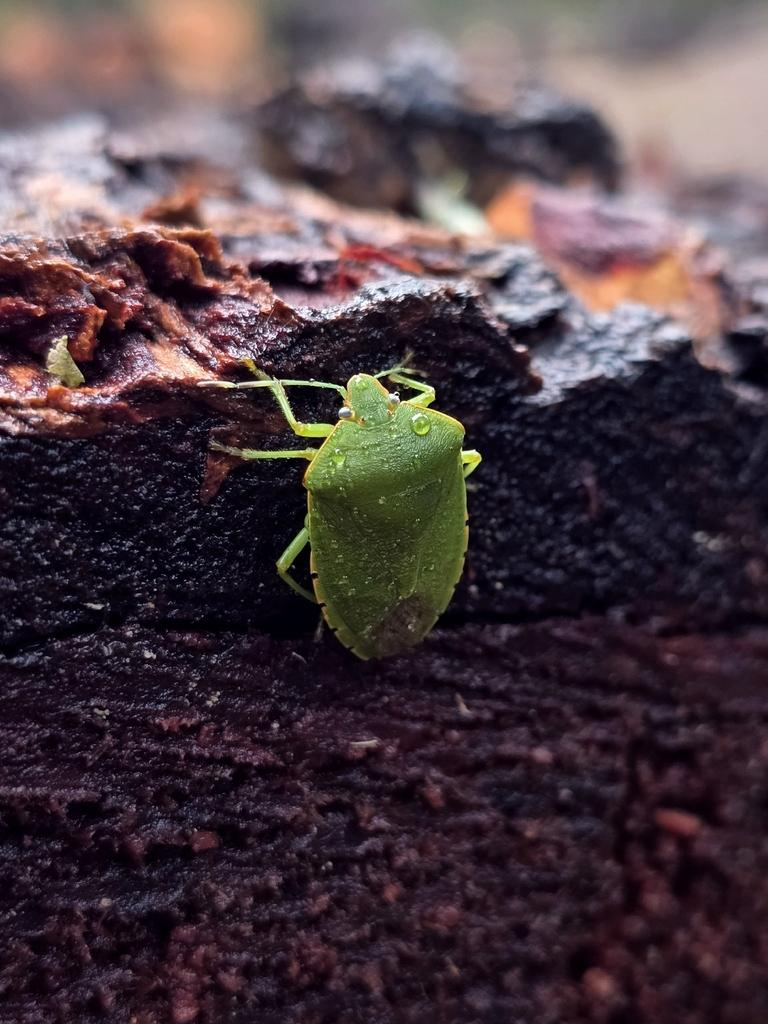stink_bugs: (169, 289, 589, 723)
